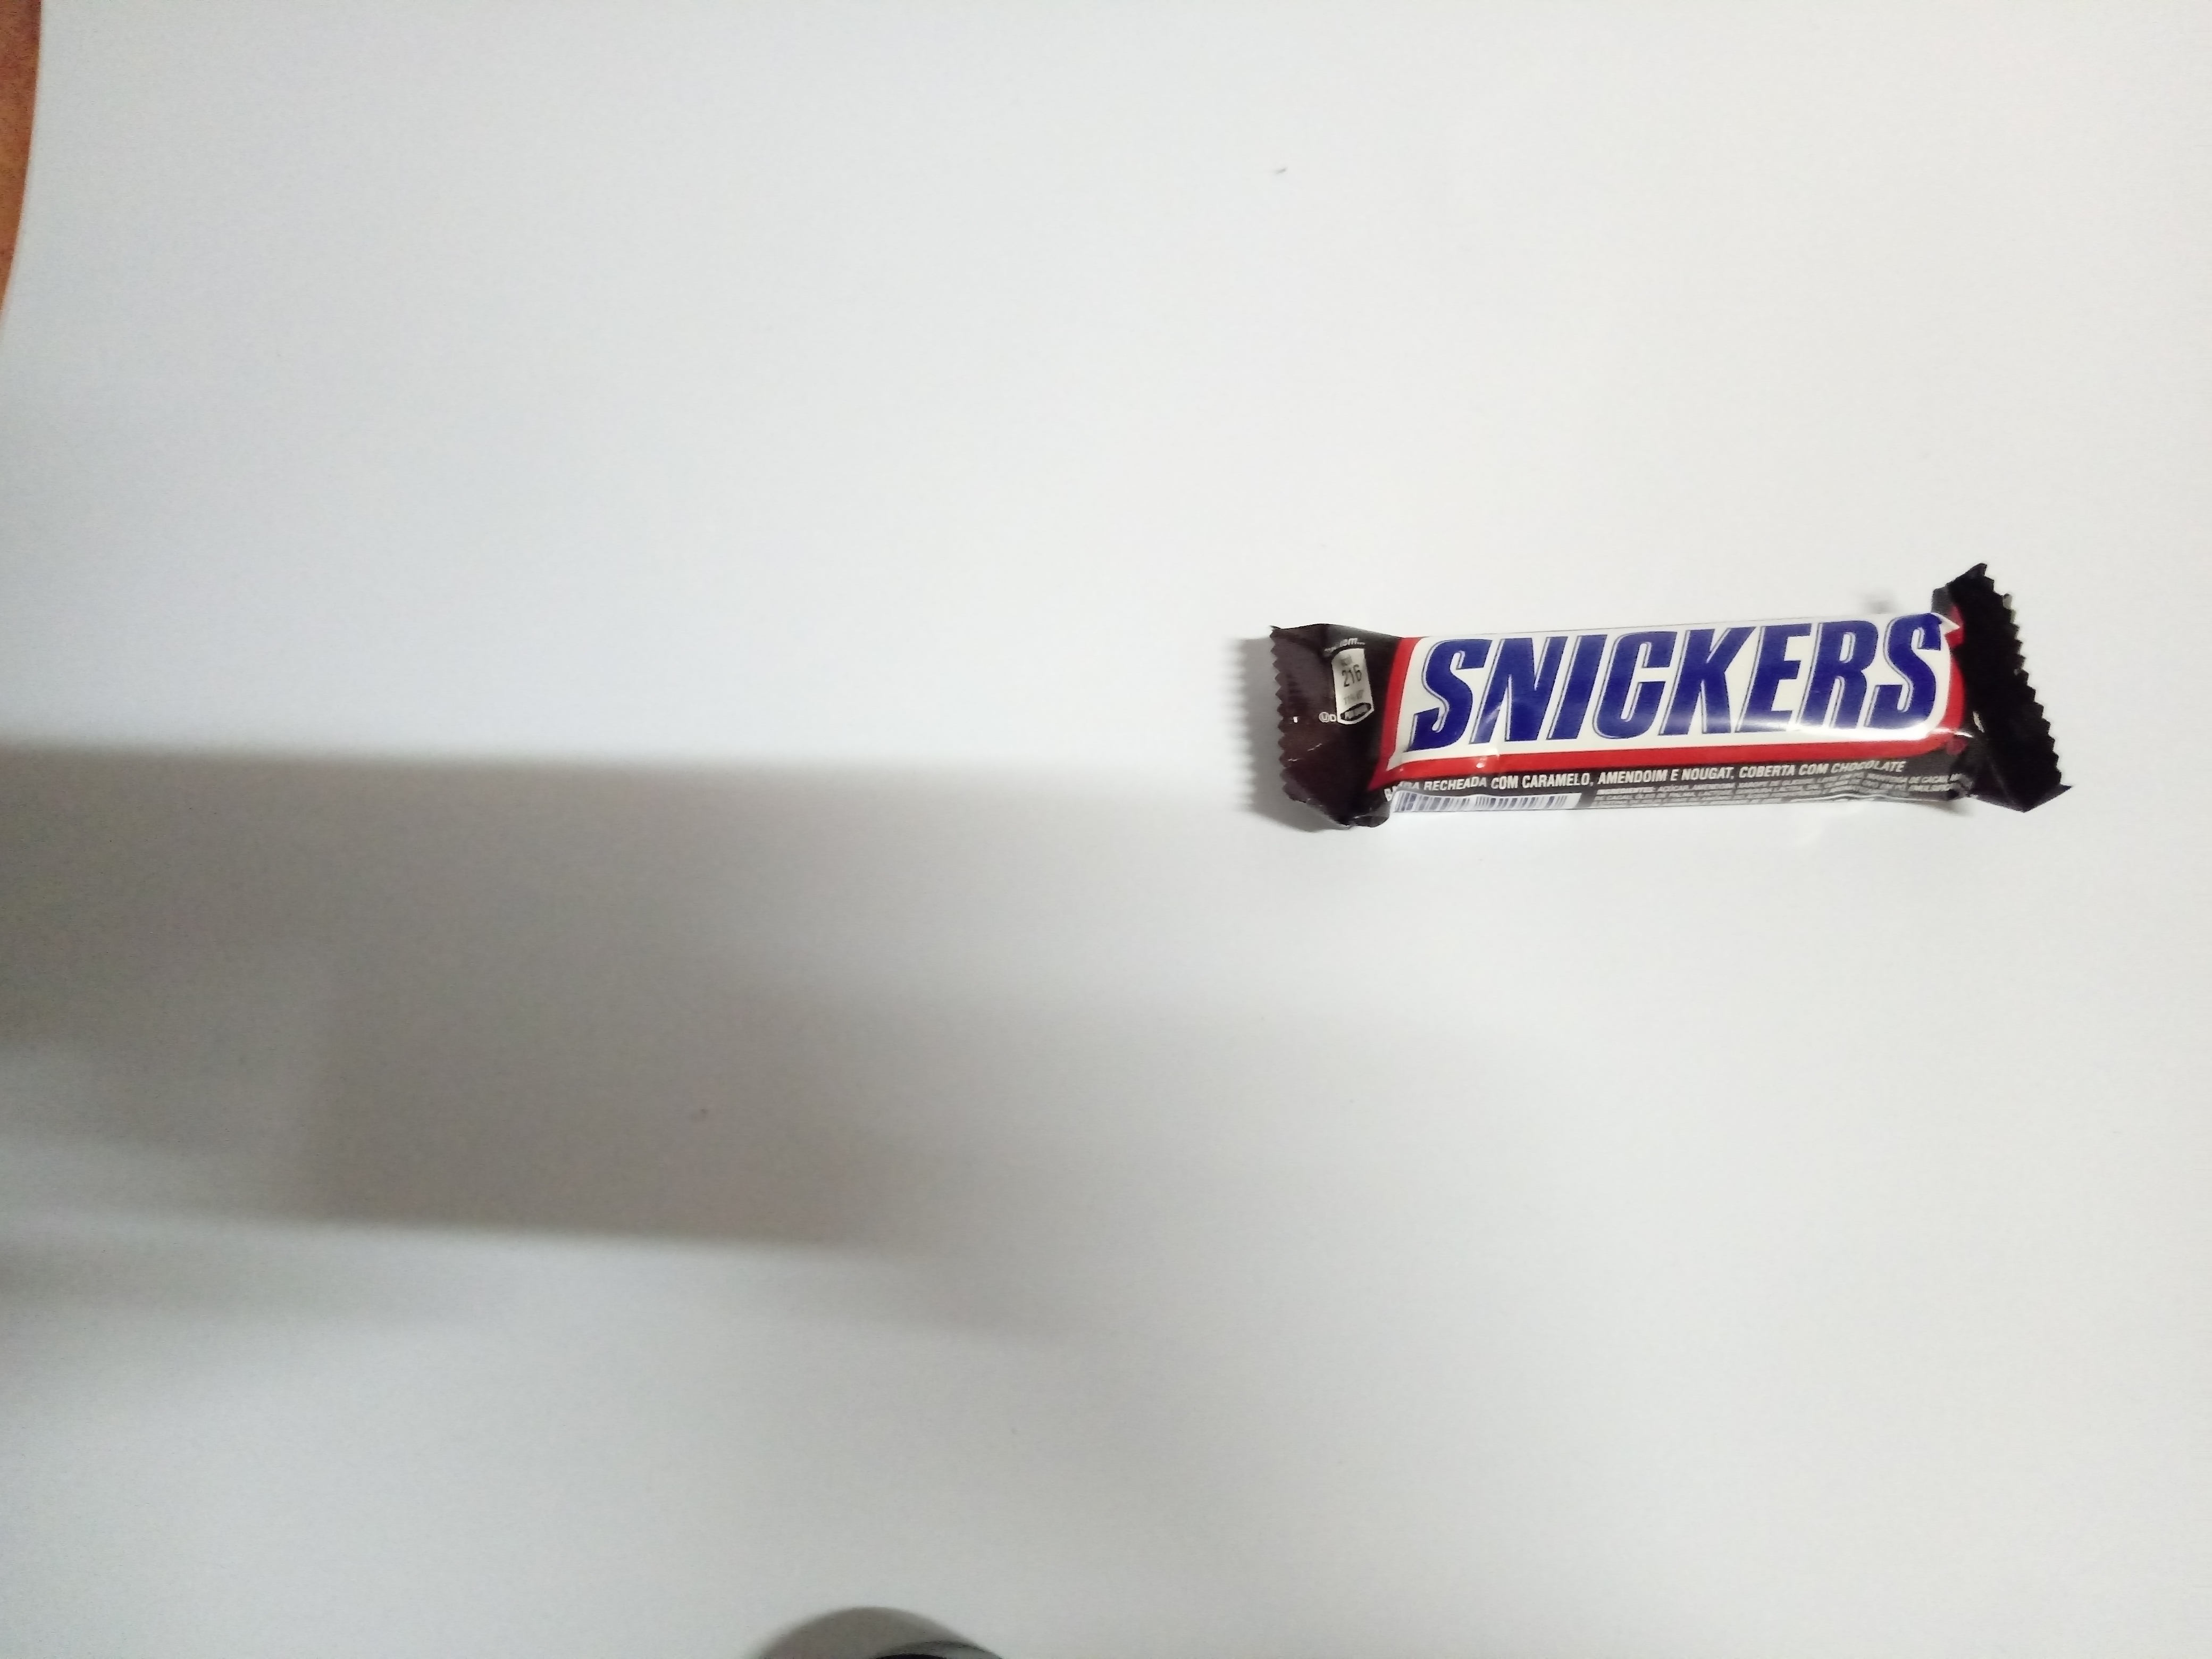snickers: (1240, 551, 2085, 863)
